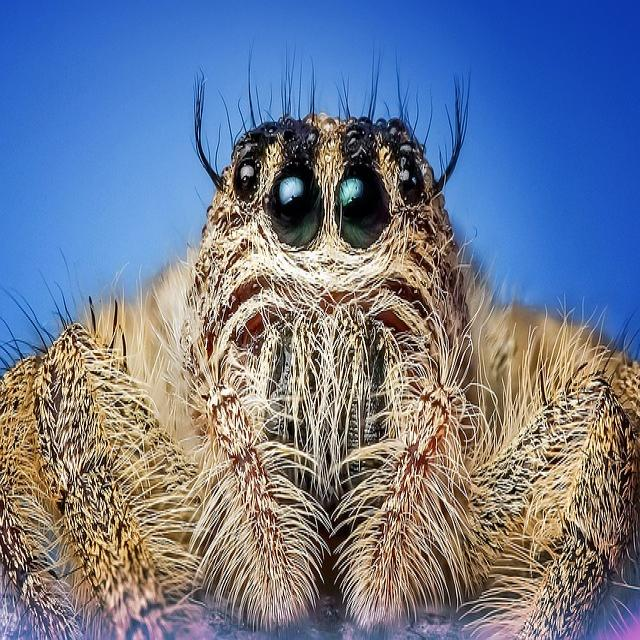spyder: (0, 88, 640, 638)
